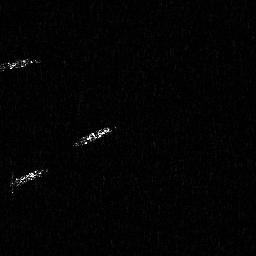ship: (8, 166, 53, 193), (70, 125, 117, 150), (1, 54, 42, 73)
